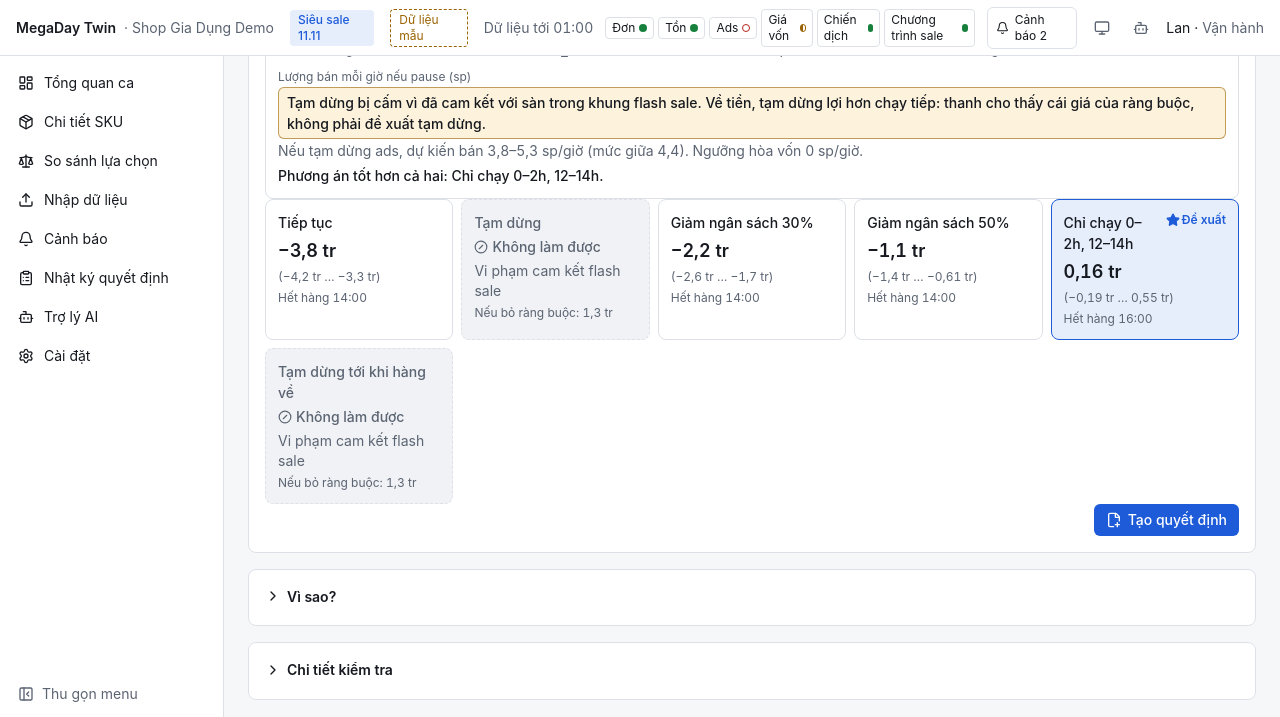
Test case: Compare screen · CD002 on 11.11 (API snapshot fixture) › tier 2: reasons with clickable numbers and the flip condition
(page scrolled)
Click the button "Vì sao?" at (301, 596), box [261,582,340,611]
(page scrolled)
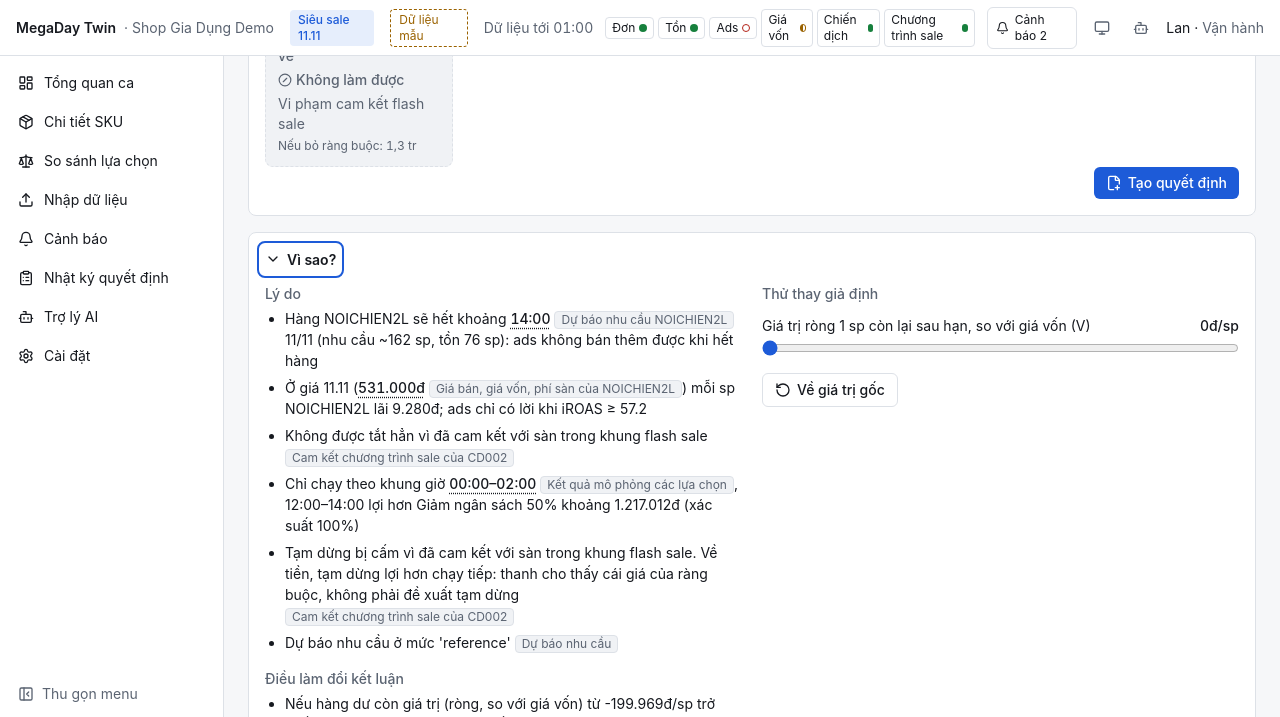
Result: the list item "lãi 9.280đ; ads chỉ có lời khi iROAS ≥ 57.2" is shown at [285,379,735,417]
Click the button "531.000đ Giá bán, giá vốn, phí sàn của NOICHIEN2L" at (520, 388), box [358,377,682,398]
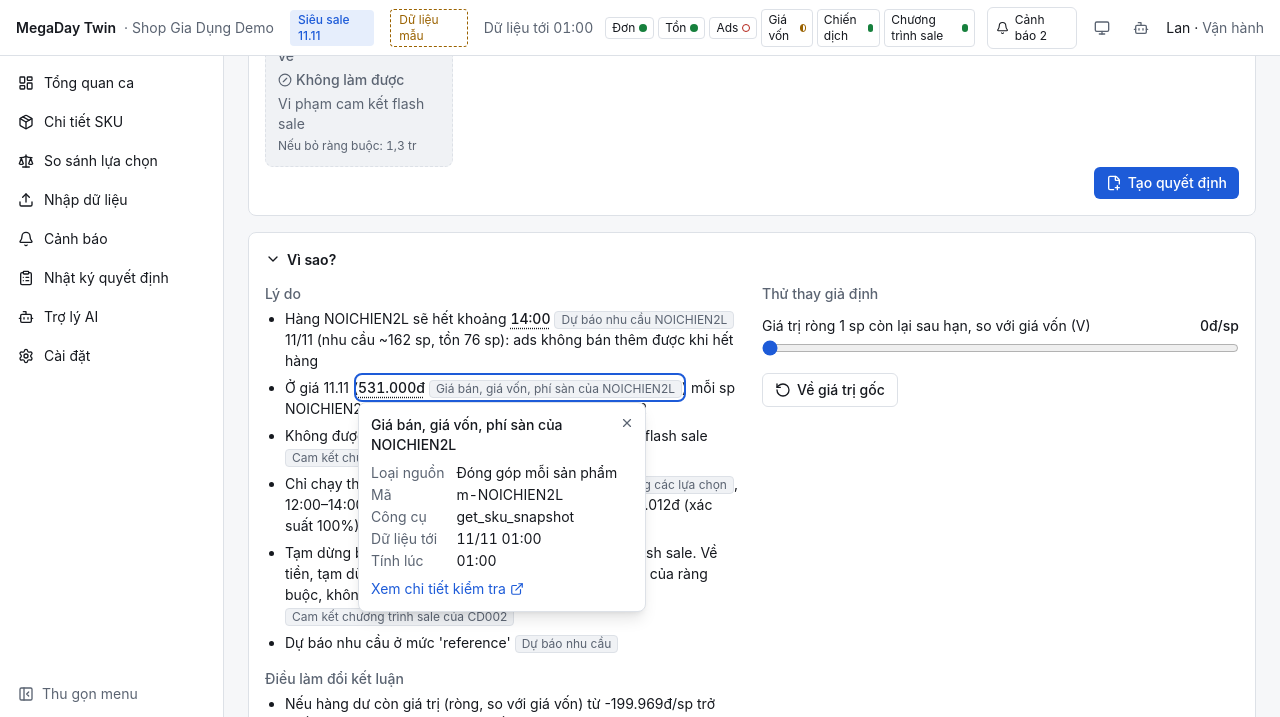
Result: the slider labelled "Giá trị ròng 1 sp còn lại sau hạn, so với giá vốn (V) 0đ/sp" is shown at [762,340,1239,356]
Result: the dialog named "Nguồn: Giá bán, giá vốn, phí sàn của NOICHIEN2L" is shown at [358,402,646,612]
